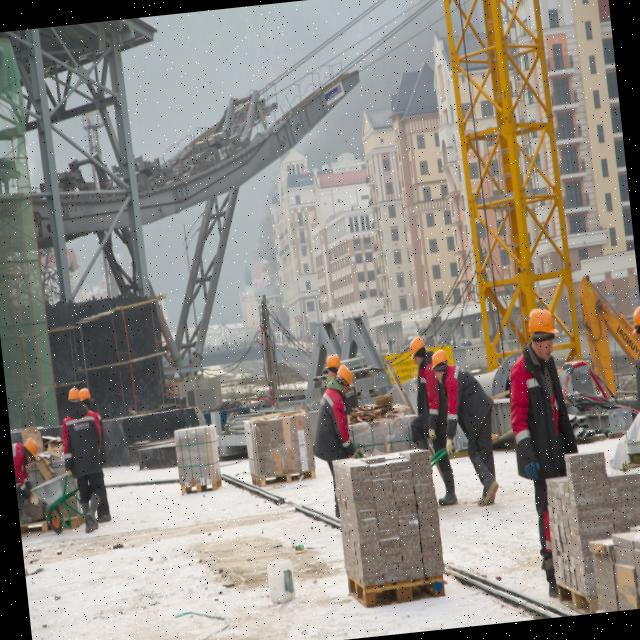Helmet: (515, 347, 569, 477), (526, 307, 562, 344), (408, 336, 427, 363), (22, 437, 40, 465), (430, 350, 450, 375), (336, 366, 354, 391), (627, 305, 640, 339), (323, 353, 342, 375), (67, 388, 83, 408), (80, 389, 93, 408)
